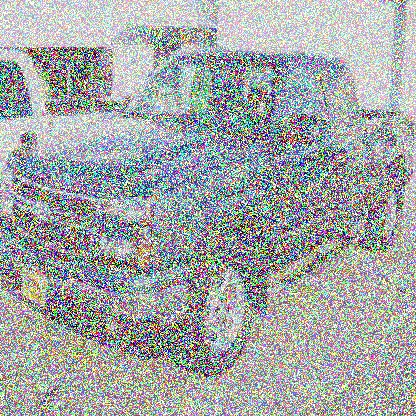Vehicle: (1, 49, 414, 386)
